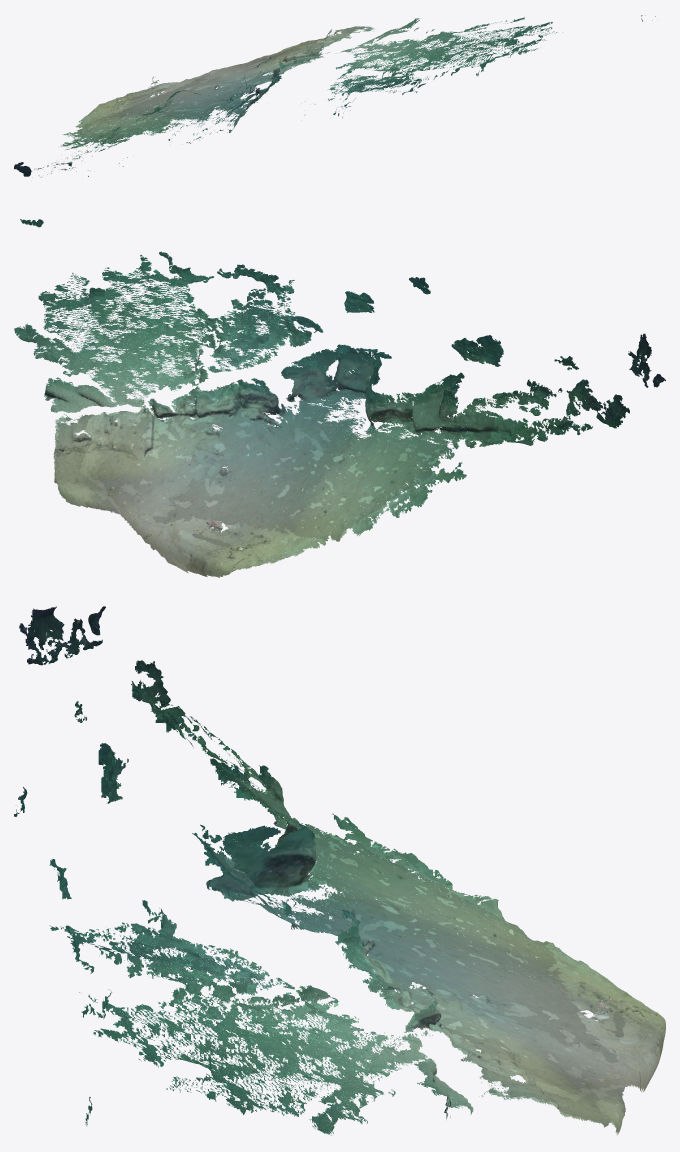
Rendered from ribbon_standalone_lit_fs.glb.
The picture shows the model from 3 angles, top to bottom: view 1: azimuth 30°, elevation 25°; view 2: azimuth 150°, elevation 25°; view 3: azimuth 270°, elevation 25°; orthographic projection. The views are drawn at different scales.
Parts seen in each view (by area): view 1: Mesh_0; view 2: Mesh_0; view 3: Mesh_0.
Boxes of the visible parts, x1,y1,x2,y2 form: Mesh_0: (14,15,655,177); Mesh_0: (14,219,665,577); Mesh_0: (14,606,665,1135).
Bounding box in the file's own units: 11.46 × 2.79 × 6.16.
30 materials, 30 textured.
